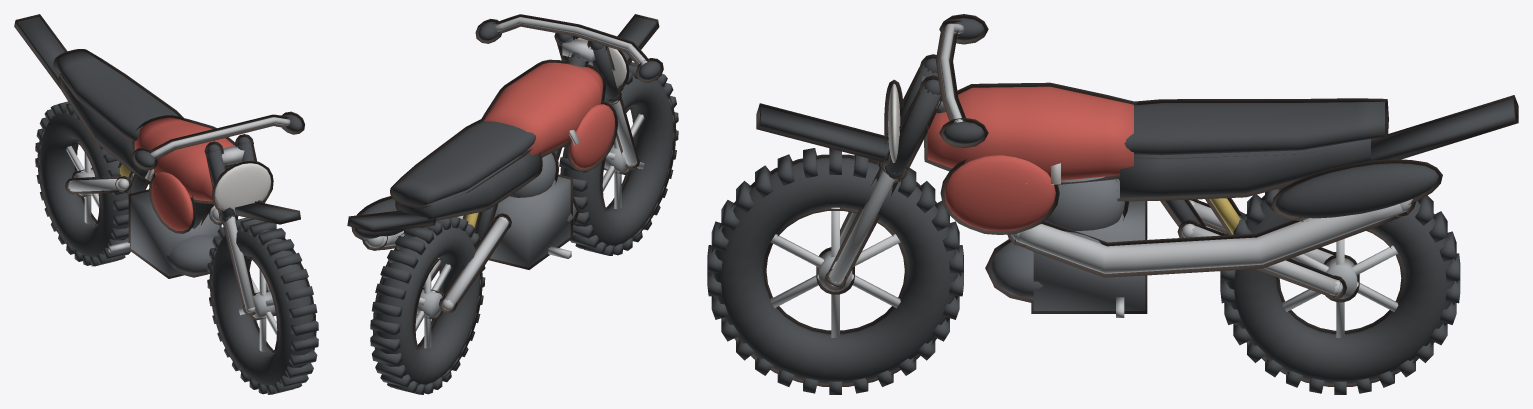
File: dirt-bike.glb
The picture shows the model from 3 angles, left to right: view 1: azimuth 30°, elevation 25°; view 2: azimuth 150°, elevation 25°; view 3: azimuth 270°, elevation 25°; orthographic projection. The views are drawn at different scales.
Parts seen in each view (by area): view 1: body, wheel_front, wheel_rear; view 2: body, wheel_rear, wheel_front; view 3: body, wheel_front, wheel_rear.
Boxes of the visible parts, left/top/right/bottom form: body: left=14, top=14, right=304, bottom=315; wheel_front: left=207, top=217, right=318, bottom=394; wheel_rear: left=35, top=101, right=133, bottom=266; body: left=347, top=14, right=663, bottom=313; wheel_rear: left=370, top=217, right=485, bottom=394; wheel_front: left=559, top=62, right=678, bottom=255; body: left=756, top=14, right=1518, bottom=317; wheel_front: left=707, top=148, right=963, bottom=394; wheel_rear: left=1220, top=187, right=1460, bottom=394.
Size of the model in its own units: 0.998 by 1.32 by 2.91.
